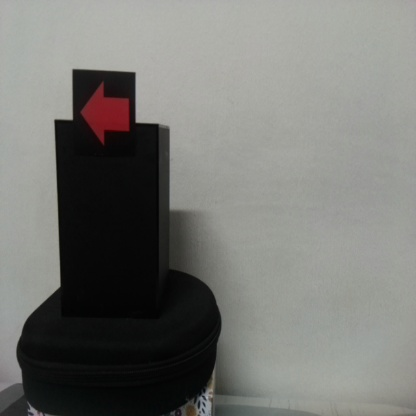id_4: (72, 70, 135, 160)
